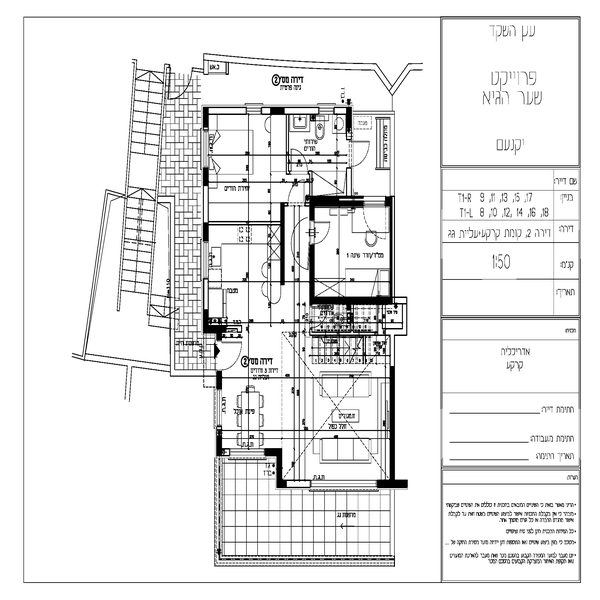door: (210, 341, 248, 371), (340, 136, 373, 165), (285, 146, 313, 173), (313, 219, 336, 245)
wall: (387, 365, 402, 482), (307, 292, 390, 310), (386, 195, 397, 301), (306, 195, 367, 210), (307, 243, 317, 304), (346, 101, 357, 140), (276, 446, 286, 486), (212, 370, 227, 393), (214, 424, 224, 457), (379, 479, 409, 486), (201, 111, 210, 134), (267, 446, 282, 457)
